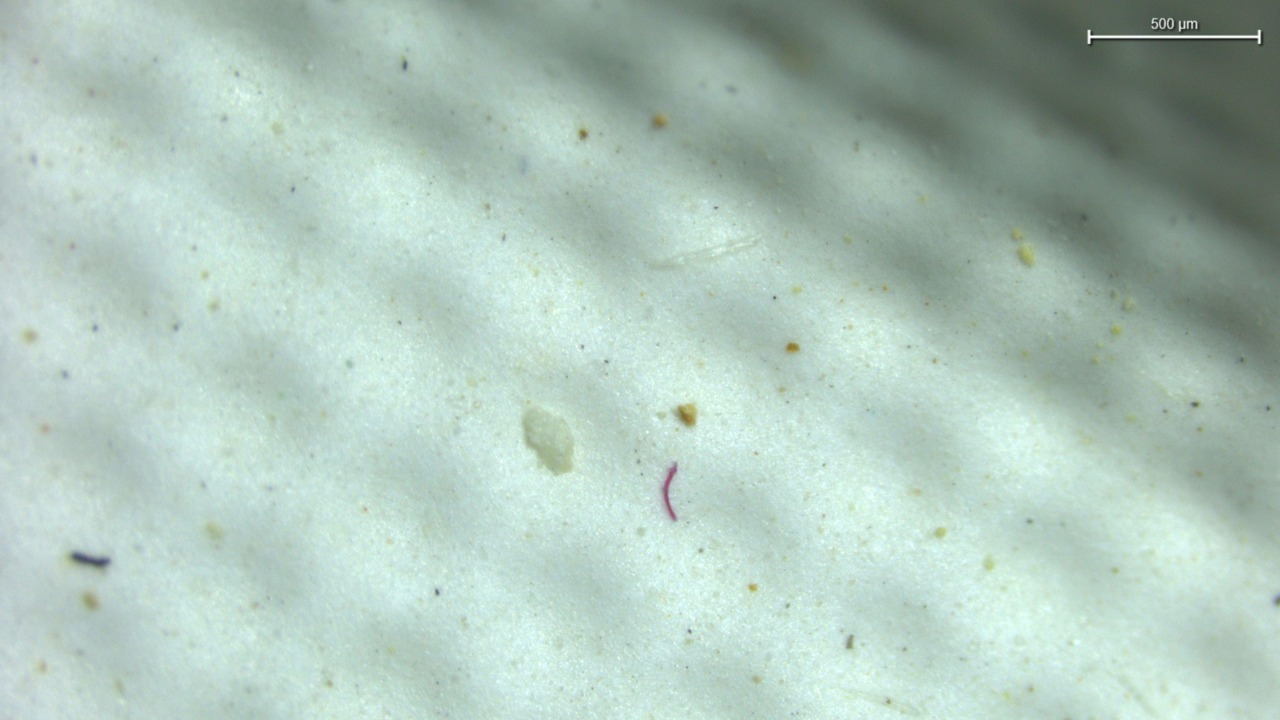microplastic_fragment: (521, 406, 574, 475)
